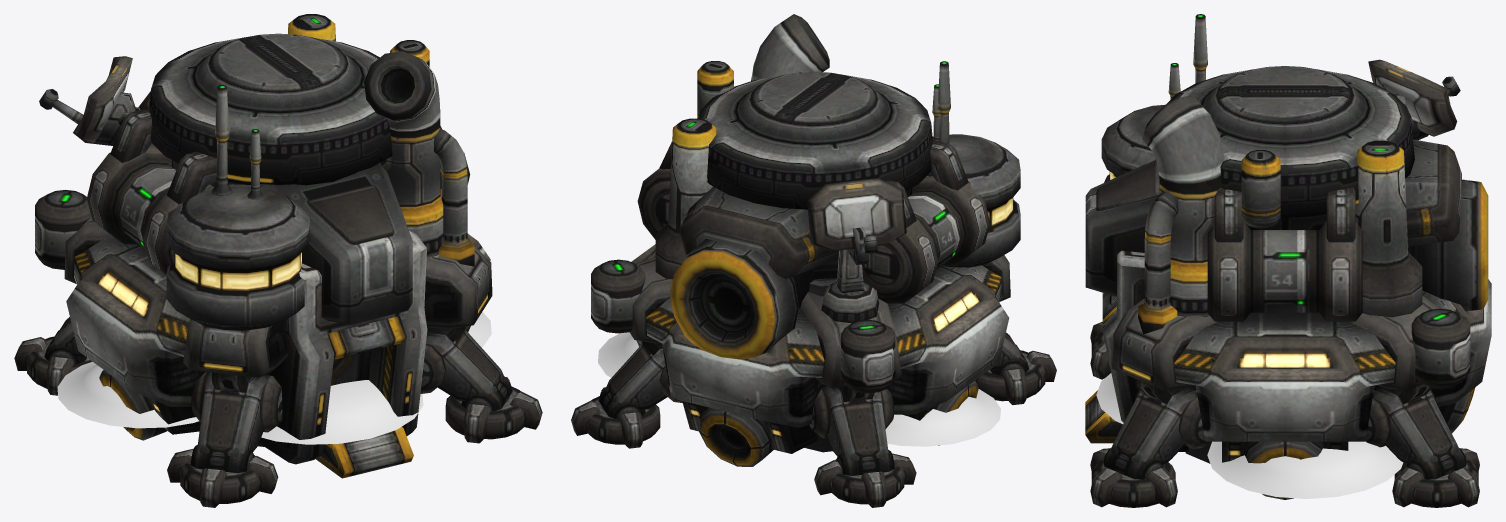
The model's file is ScienceFacility.glb.
The picture shows the model from 3 angles, left to right: view 1: azimuth 30°, elevation 25°; view 2: azimuth 150°, elevation 25°; view 3: azimuth 270°, elevation 25°; orthographic projection. The views are drawn at different scales.
Parts seen in each view (by area): view 1: Bldg_Terran_ScienceFaclity_Main, Mesh.001, Mesh; view 2: Bldg_Terran_ScienceFaclity_Main, Mesh.001, Mesh; view 3: Bldg_Terran_ScienceFaclity_Main, Mesh.001, Mesh.
Part boxes in pixels (left/top/right/bottom): Bldg_Terran_ScienceFaclity_Main: left=35, top=14, right=492, bottom=464; Mesh.001: left=14, top=56, right=542, bottom=507; Mesh: left=57, top=312, right=491, bottom=444; Bldg_Terran_ScienceFaclity_Main: left=591, top=14, right=1020, bottom=466; Mesh.001: left=571, top=61, right=1056, bottom=507; Mesh: left=598, top=332, right=1000, bottom=446; Bldg_Terran_ScienceFaclity_Main: left=1085, top=66, right=1491, bottom=499; Mesh.001: left=1085, top=14, right=1479, bottom=507; Mesh: left=1096, top=373, right=1403, bottom=498.
Size of the model in its own units: 4.47 by 3.85 by 3.85.
Materials: 3 (2 with a texture image).
